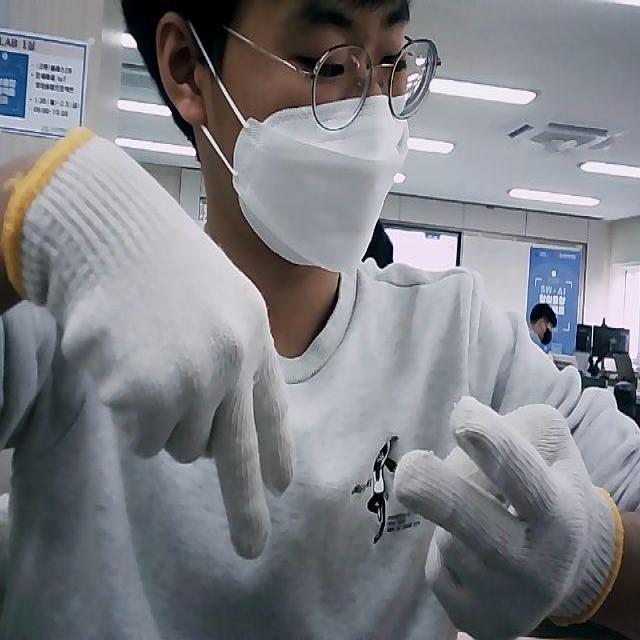gloves: (3, 128, 294, 559), (389, 396, 623, 640)
